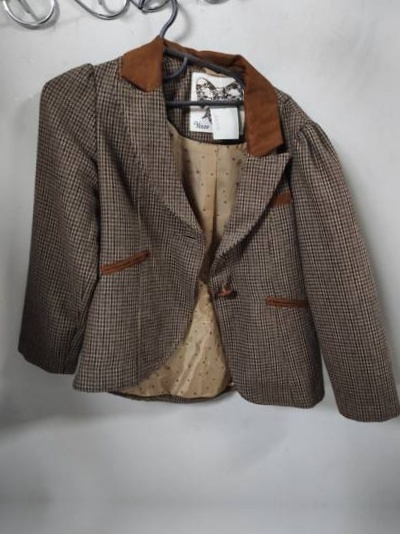Blazer: (6, 44, 400, 439)
